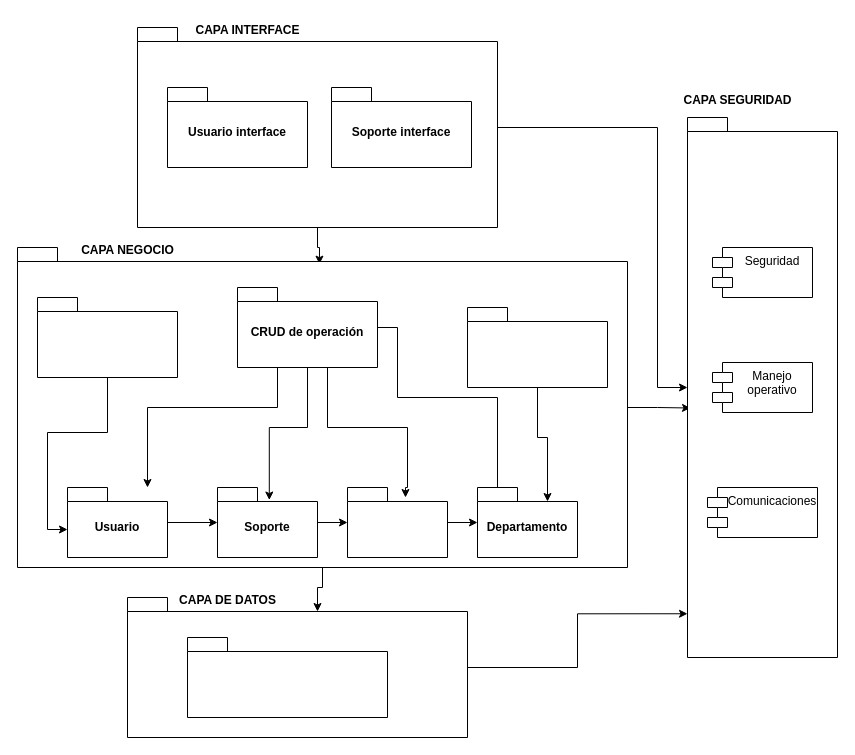
This 855x755 diagram has some shape labels left out. The shapes that lost their labels are listed below. From the top down, each one's centre as x and y in pixels, then its label:
(107,337): Gestión de usuarios
(537,347): Gestión de tickets
(397,522): Categorias
(287,677): BD Conexión
